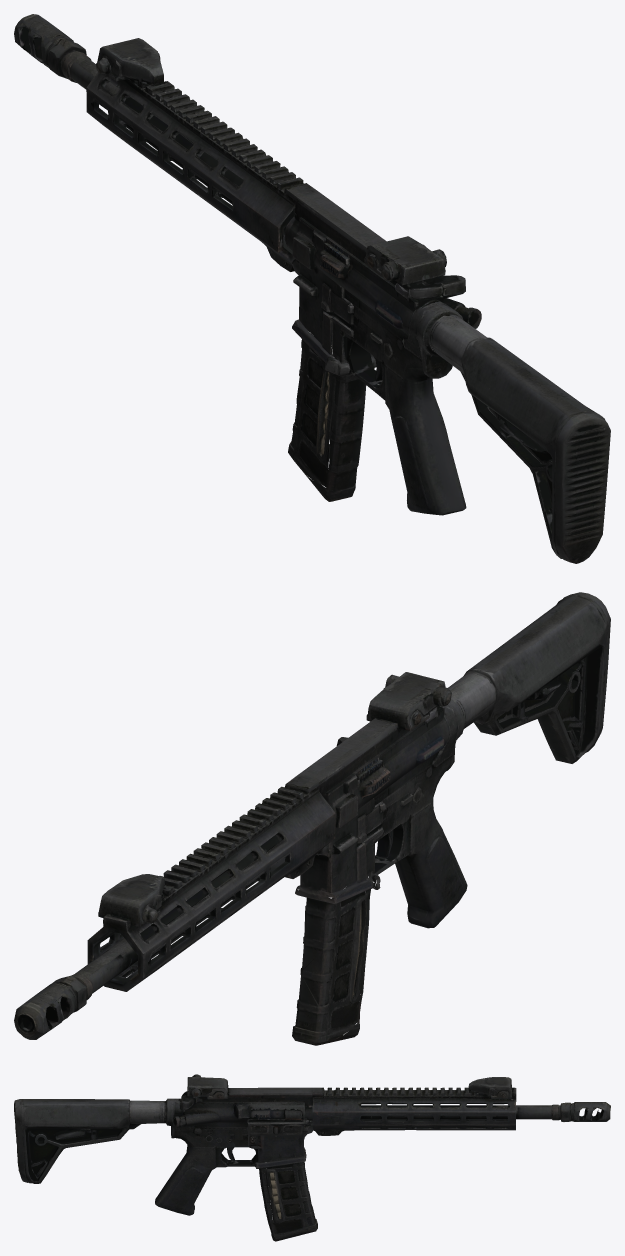
The model's file is service.glb.
3 renders of one model, top to bottom at view 1: azimuth 30°, elevation 25°; view 2: azimuth 150°, elevation 25°; view 3: azimuth 270°, elevation 25°, orthographic. The views are drawn at different scales.
Parts seen in each view (by area): view 1: body, mag; view 2: body, mag; view 3: body, mag.
Boxes of the visible parts, x1,y1,x2,y2 form: body: (14, 14, 610, 563); mag: (288, 325, 335, 487); body: (14, 592, 610, 1043); mag: (292, 867, 375, 1045); body: (14, 1074, 610, 1241); mag: (261, 1150, 317, 1235).
Bounding box in the file's own units: 0.0704 × 0.248 × 0.8497.
Materials: 1 (1 with a texture image).
